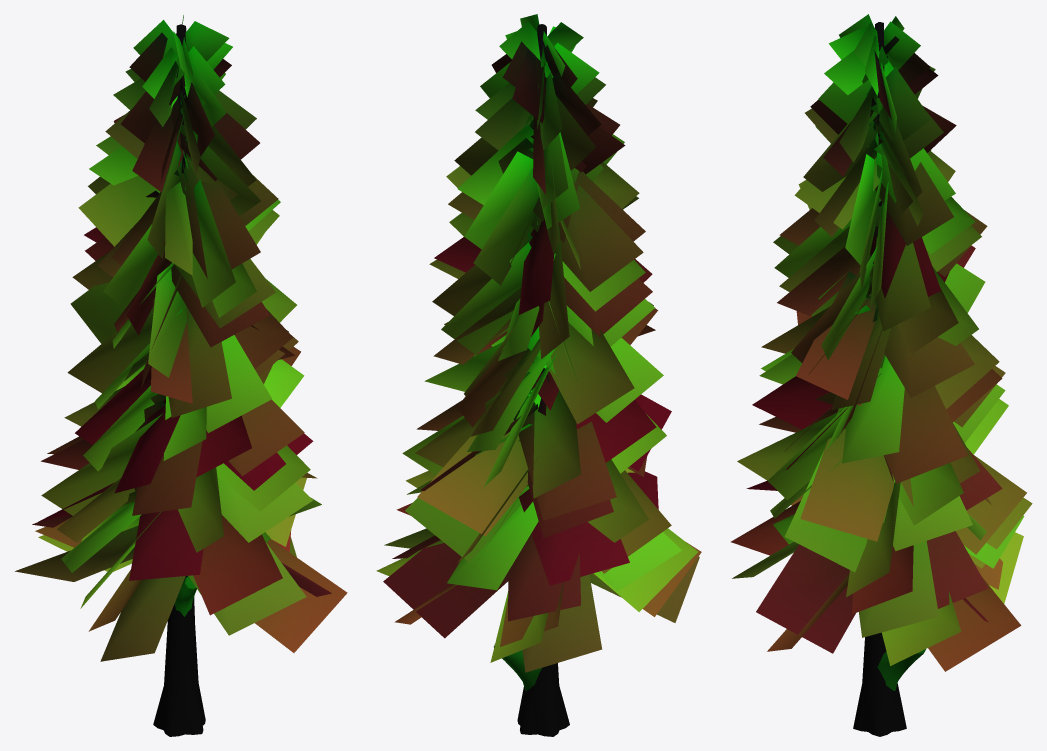
The model's file is M_Pine_2_4.fbx.
The picture shows the model from 3 angles, left to right: view 1: azimuth 30°, elevation 25°; view 2: azimuth 150°, elevation 25°; view 3: azimuth 270°, elevation 25°; orthographic projection.
Parts seen in each view (by area): view 1: Tree_4; view 2: Tree_4; view 3: Tree_4.
Part boxes in pixels (x1=…): Tree_4: x1=15, y1=15, x2=347, y2=736; Tree_4: x1=376, y1=14, x2=701, y2=736; Tree_4: x1=731, y1=14, x2=1032, y2=736.
Size of the model in its own units: 848 by 2208 by 855.
